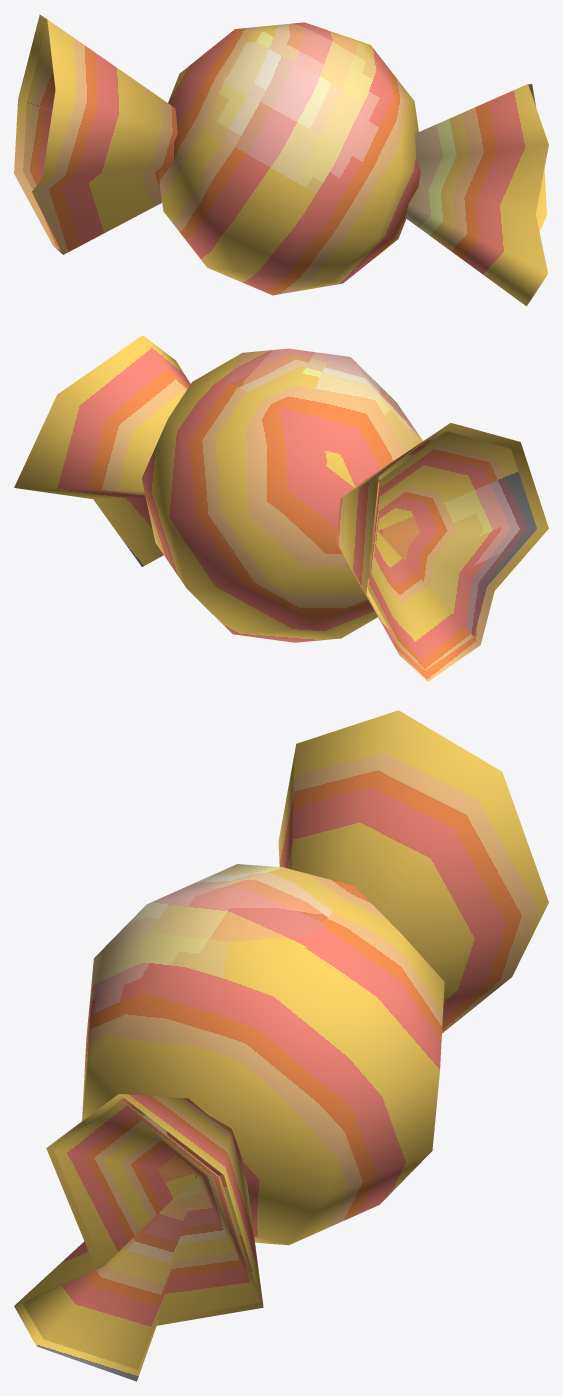
Rendered from candy.obj.
The picture shows the model from 3 angles, top to bottom: view 1: azimuth 30°, elevation 25°; view 2: azimuth 150°, elevation 25°; view 3: azimuth 270°, elevation 25°; orthographic projection. The views are drawn at different scales.
Parts seen in each view (by area): view 1: VisualMaterial0; view 2: VisualMaterial0; view 3: VisualMaterial0.
Part boxes in pixels (x1,y1,x2,y2): VisualMaterial0: (14,14,548,306); VisualMaterial0: (14,335,548,681); VisualMaterial0: (14,710,548,1381).
Size of the model in its own units: 17.48 by 9.84 by 11.56.
